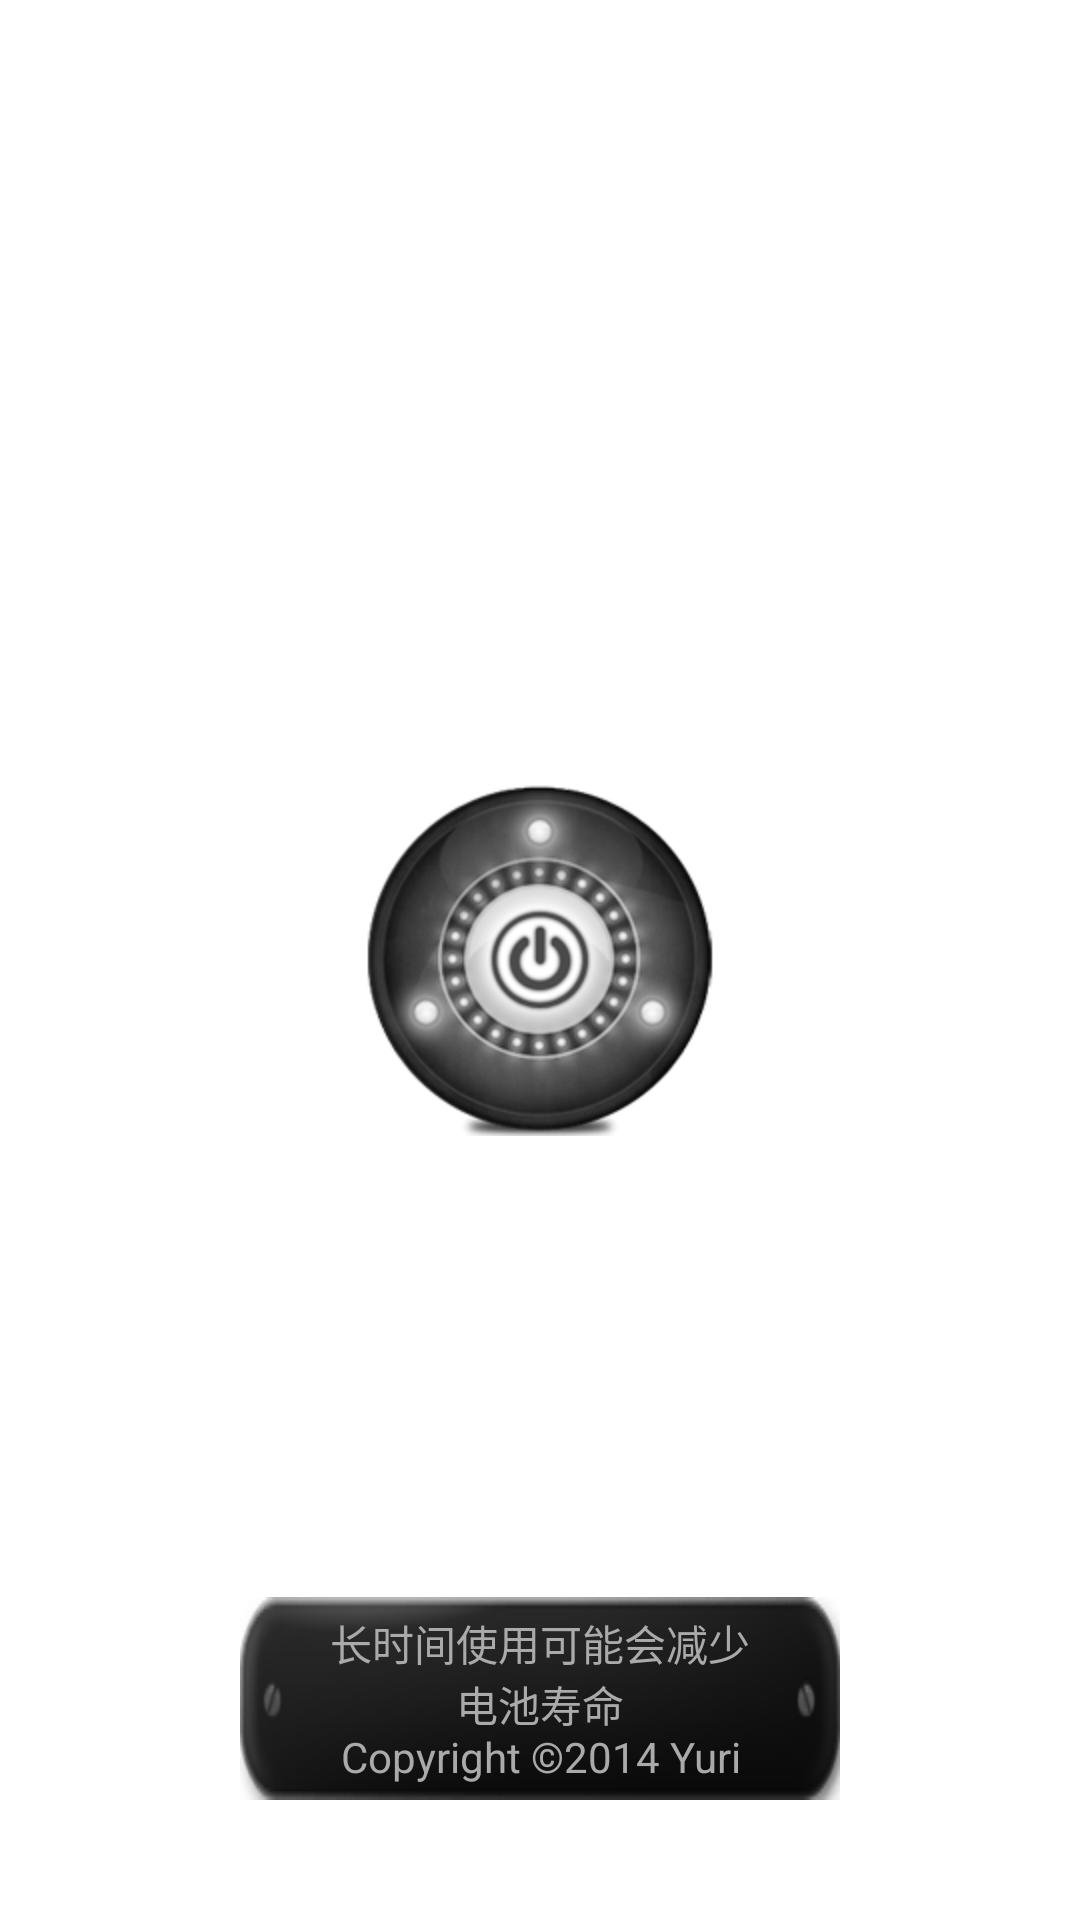

Point at icon controls on the screen. Image size 1080x1920, points as point (x, y).
power: point (540, 961)
